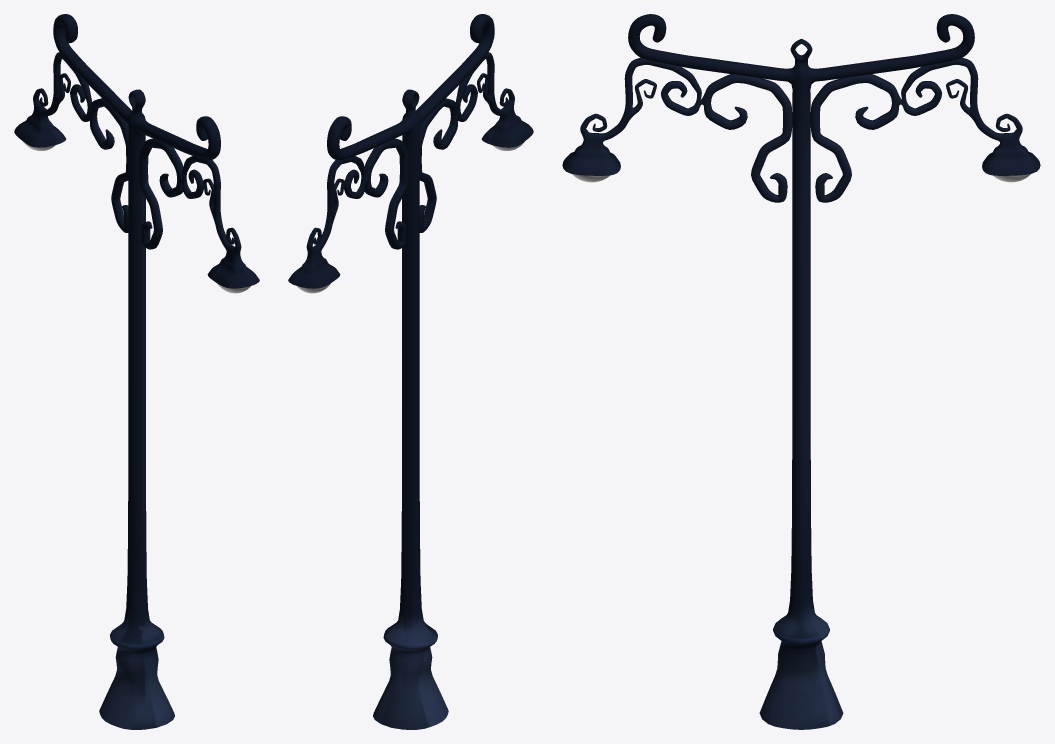
Rendered from Light.fbx.
3 views of the same model, side by side, from view 1: azimuth 30°, elevation 25°; view 2: azimuth 150°, elevation 25°; view 3: azimuth 270°, elevation 25° (orthographic). The views are drawn at different scales.
Parts seen in each view (by area): view 1: Poste; view 2: Poste; view 3: Poste.
Boxes of the visible parts, x1,y1,x2,y2 form: Poste: [14, 14, 259, 729]; Poste: [288, 14, 533, 729]; Poste: [562, 14, 1040, 729].
Bounding box in the file's own units: 38.12 × 369 × 229.
